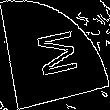M_W: (29, 27, 81, 82)
